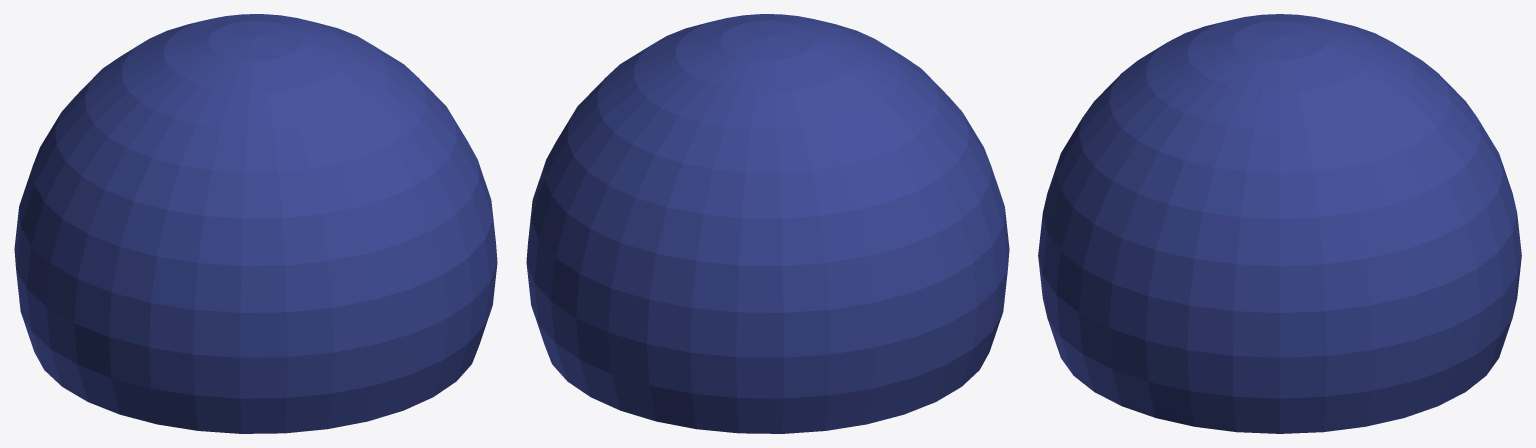
File: slime.obj
3 renders of one model, left to right at view 1: azimuth 30°, elevation 25°; view 2: azimuth 150°, elevation 25°; view 3: azimuth 270°, elevation 25°, orthographic.
Parts seen in each view (by area): view 1: 球; view 2: 球; view 3: 球.
Part boxes in pixels (x1,y1,x2,y2): 球: (14,14,497,433); 球: (526,14,1009,433); 球: (1038,14,1521,433).
Bounding box in the file's own units: 2 × 1.38 × 2.
1 material, 1 textured.
